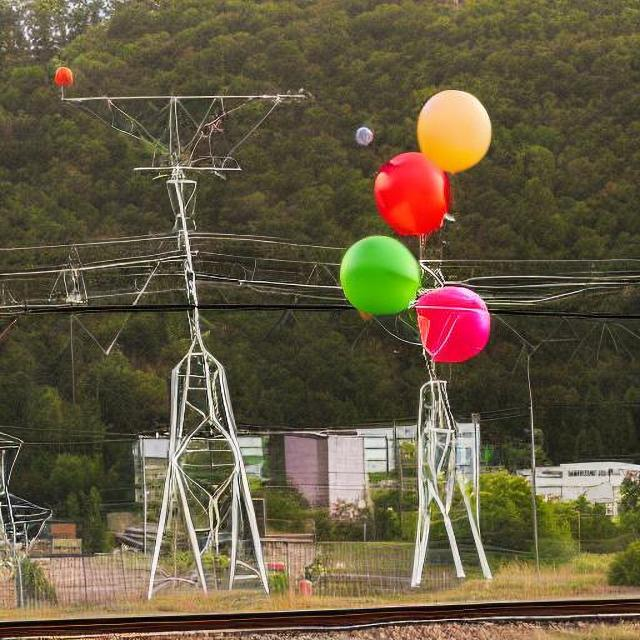balloon: (364, 144, 454, 238), (332, 230, 420, 318), (408, 88, 494, 178), (408, 278, 492, 363), (50, 64, 75, 90)
